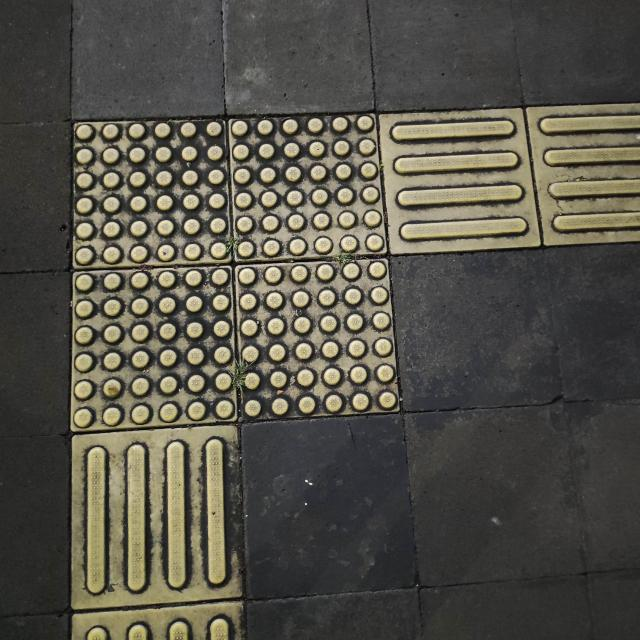kanan: (24, 67, 640, 480)
